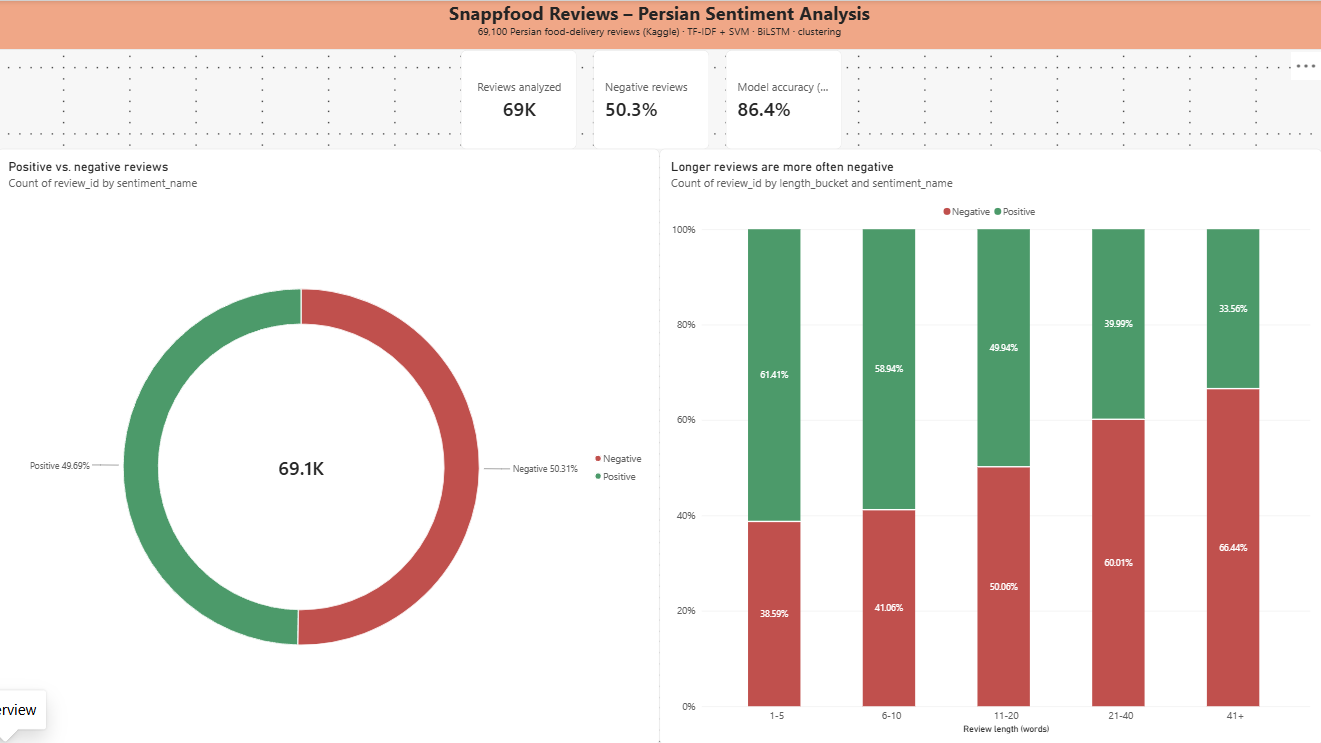

This screenshot's page, from the dashboard's own definition file:
{"tool":"powerbi","page":{"name":"Overview","canvas":[1920,1080],"ordinal":0},"visuals":[{"type":"textbox","box":[0,0,1920,72],"z":0},{"type":"cardVisual","fields":{"Data":["reviews.Total Reviews"]},"box":[672,72,168,144],"z":1000},{"type":"cardVisual","fields":{"Data":["reviews.Negative Share"]},"box":[864,72,168,144],"z":2000},{"type":"cardVisual","fields":{"Data":["reviews.Test Accuracy"]},"box":[1056,72,168,144],"z":3000},{"type":"donutChart","title":"Positive vs. negative reviews","fields":{"Category":["reviews.sentiment_name"],"Y":["CountNonNull(reviews.review_id)"]},"box":[0,216,960,864],"z":4000},{"type":"hundredPercentStackedColumnChart","title":"Longer reviews are more often negative","fields":{"Category":["reviews.length_bucket"],"Series":["reviews.sentiment_name"],"Y":["CountNonNull(reviews.review_id)"]},"box":[960,216,960,864],"z":5000}]}

Visuals, with their boxes in screenshot pixels (x1, y1, x2, y2), scaled from the page's 1920x1080 canvas onto the 1321x743 screenshot:
textbox: locate(0, 0, 1320, 50)
cardVisual - reviews.Total Reviews: locate(462, 50, 578, 149)
cardVisual - reviews.Negative Share: locate(594, 50, 710, 149)
cardVisual - reviews.Test Accuracy: locate(727, 50, 842, 149)
"Positive vs. negative reviews" donutChart: locate(0, 149, 660, 742)
"Longer reviews are more often negative" hundredPercentStackedColumnChart: locate(660, 149, 1320, 742)
